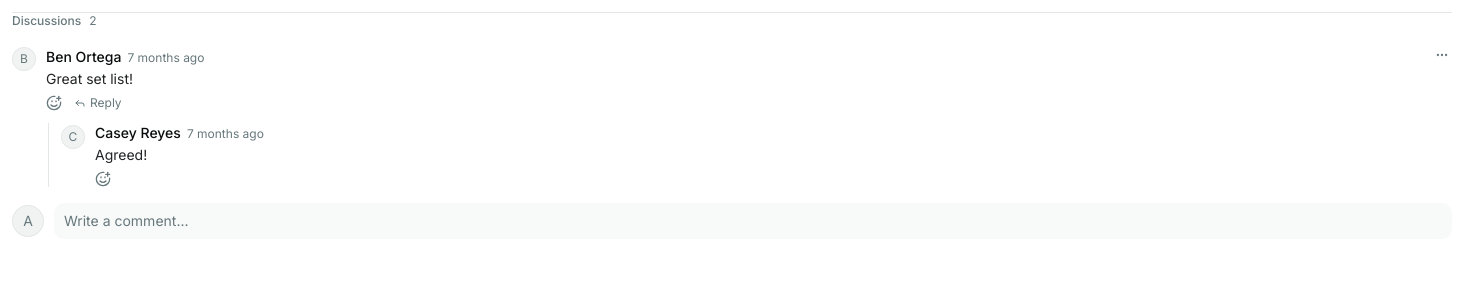
Test case: LineupDiscussion › disables Save/Cancel on the comment being edited while the update is in flight
The image size is (1464, 282).
Check: the text "Great set list!" is shown, box [46,70,133,87]
Step 1. Click the button named "Comment actions" → point(1442, 55), box [1432,45,1452,65]
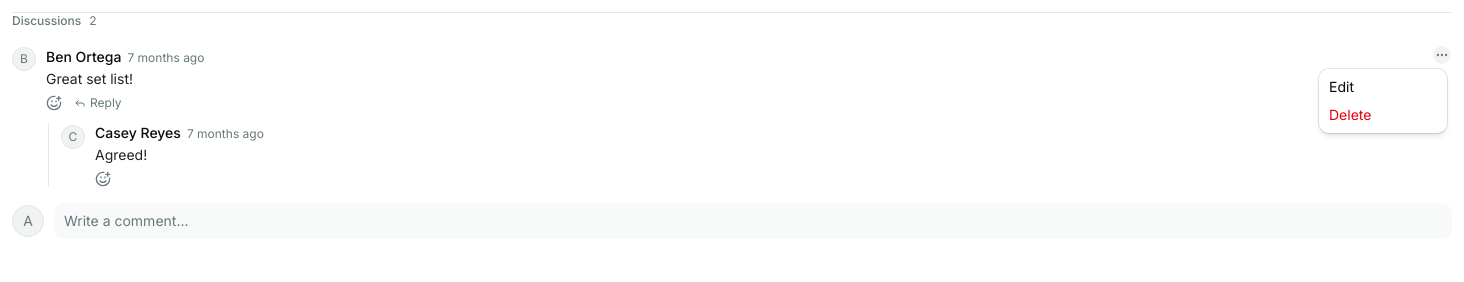
Step 2. Click the menu item "Edit" → point(1342, 86), box [1329,78,1354,95]
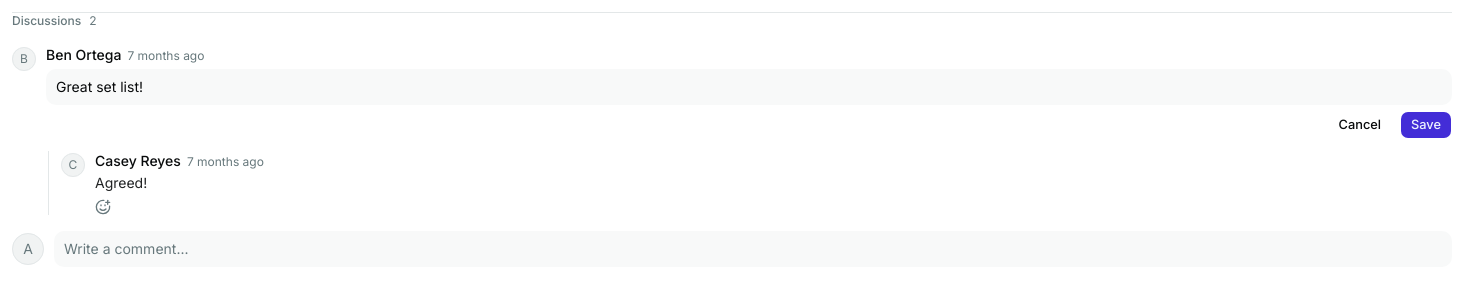
Step 3. Click the button "Save" → point(1426, 125), box [1400,111,1452,139]
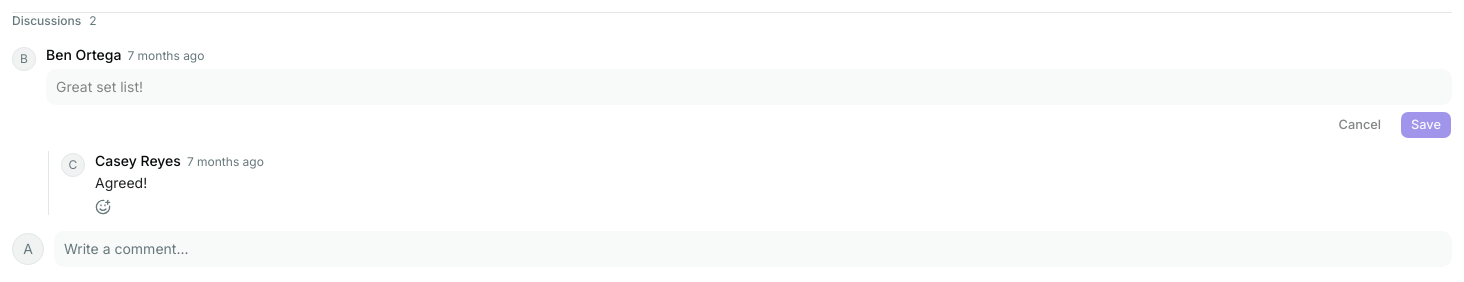
Check: the button "Save" is disabled, box [1400,111,1452,139]
Check: the button "Cancel" is disabled, box [1328,111,1392,139]
